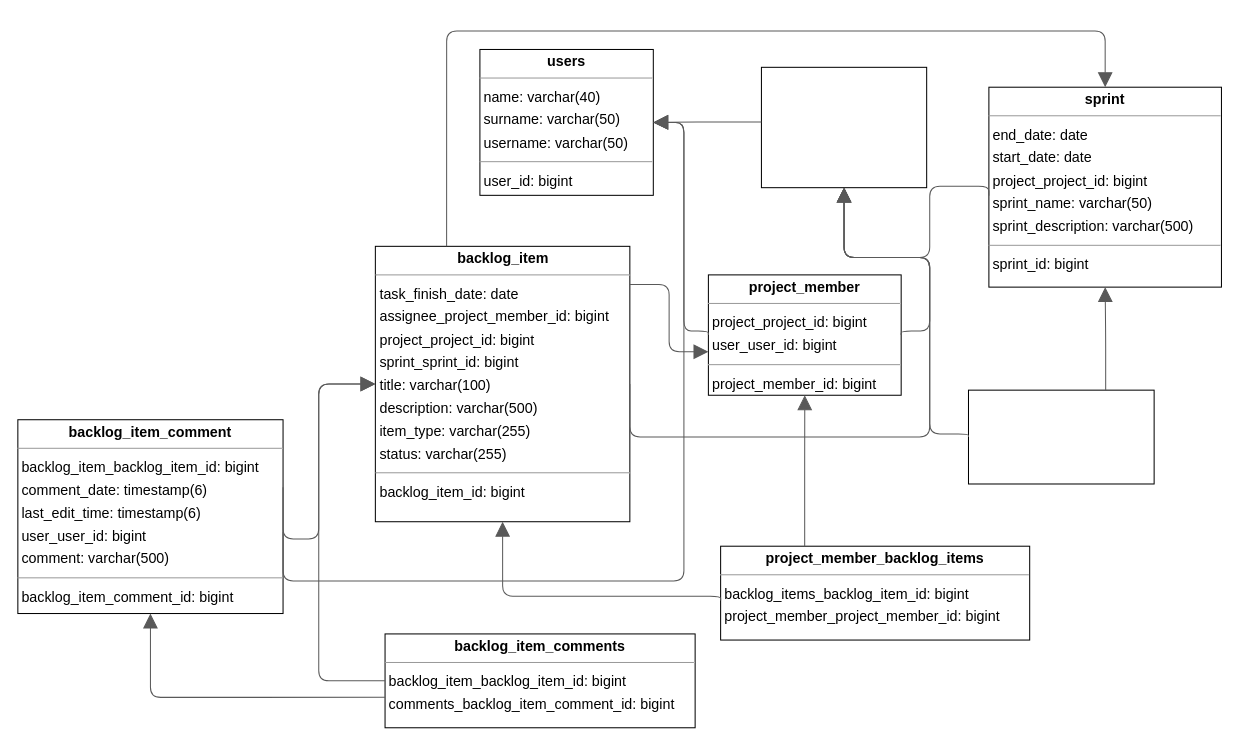
The diagram is 1239 pixels wide and 746 high, and some of its shapes have lost their labels. The centre of each missing label's shape, as x and y in pixels:
project owner_user_id: bigint name: varchar(100) project_id: bigint: the point at 843,127
project_sprints project_project_id: bigint sprints_sprint_id: bigint: the point at 1060,436
